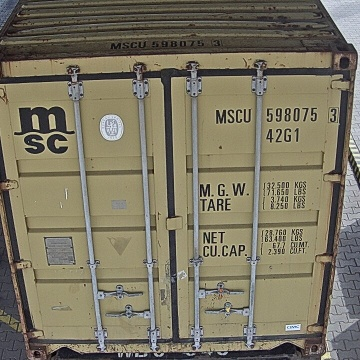serial_id: (216, 107, 338, 122)
